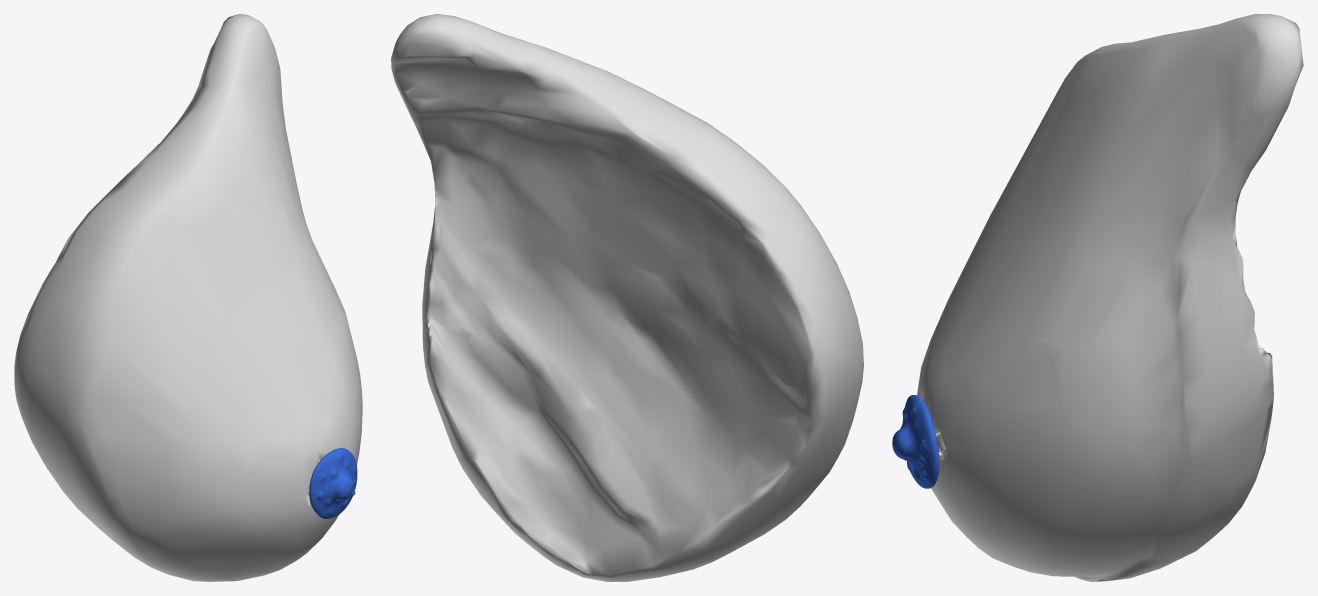
The model's file is 3d-vh-f-mammary-gland-l-20.fbx.
3 renders of one model, left to right at view 1: azimuth 30°, elevation 25°; view 2: azimuth 150°, elevation 25°; view 3: azimuth 270°, elevation 25°, orthographic. The views are drawn at different scales.
Parts seen in each view (by area): view 1: VH_F_fat_L, VH_F_areola_L; view 2: VH_F_fat_L; view 3: VH_F_fat_L, VH_F_areola_L, VH_F_nipple_L.
Part boxes in pixels (x1=…): VH_F_fat_L: x1=14, y1=14, x2=362, y2=581; VH_F_areola_L: x1=309, y1=448, x2=357, y2=518; VH_F_fat_L: x1=391, y1=14, x2=863, y2=581; VH_F_fat_L: x1=917, y1=14, x2=1303, y2=581; VH_F_areola_L: x1=900, y1=395, x2=939, y2=488; VH_F_nipple_L: x1=892, y1=426, x2=912, y2=463.
Size of the model in its own units: 12.81 by 18.19 by 11.19.
